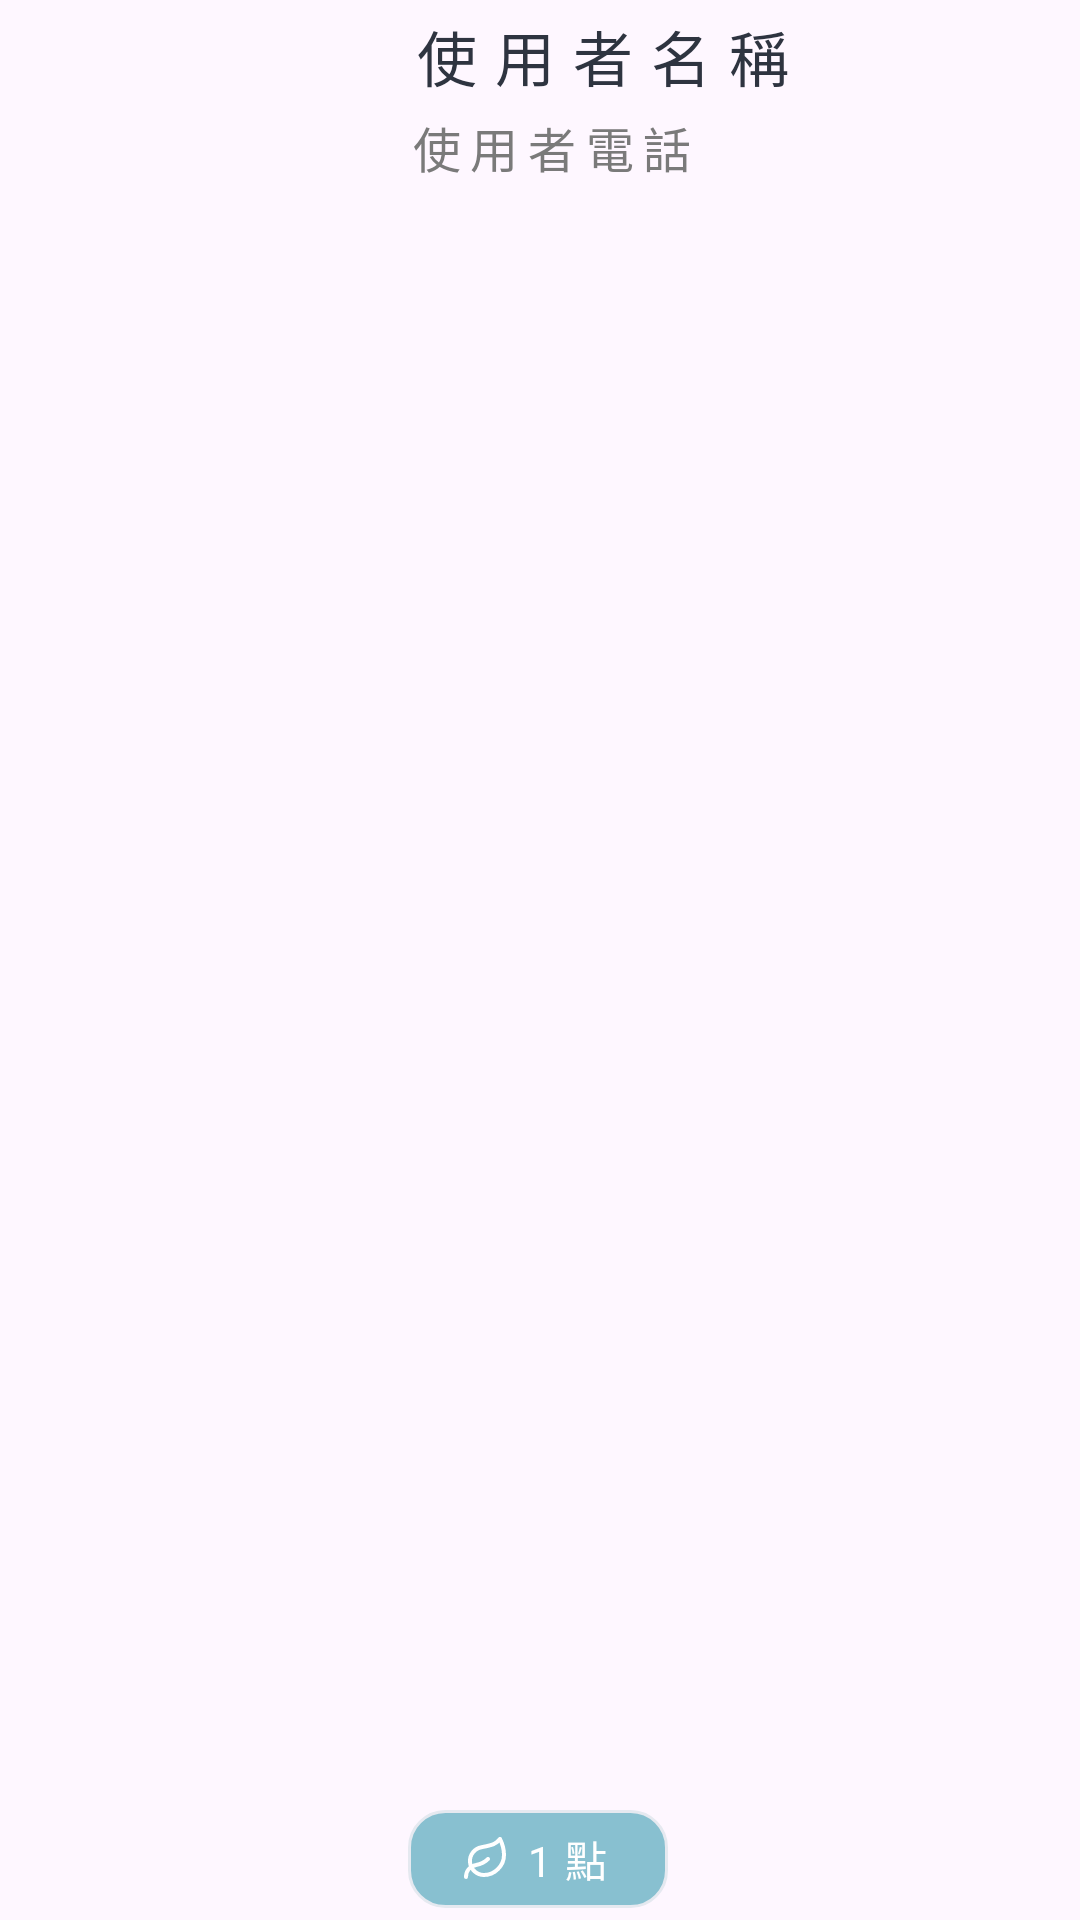

Named icons in this screenshot (1080 x 1920) and their bounding boxes, box=[x1, y1, x2, y2]:
leaf: box=[464, 1837, 506, 1879]
